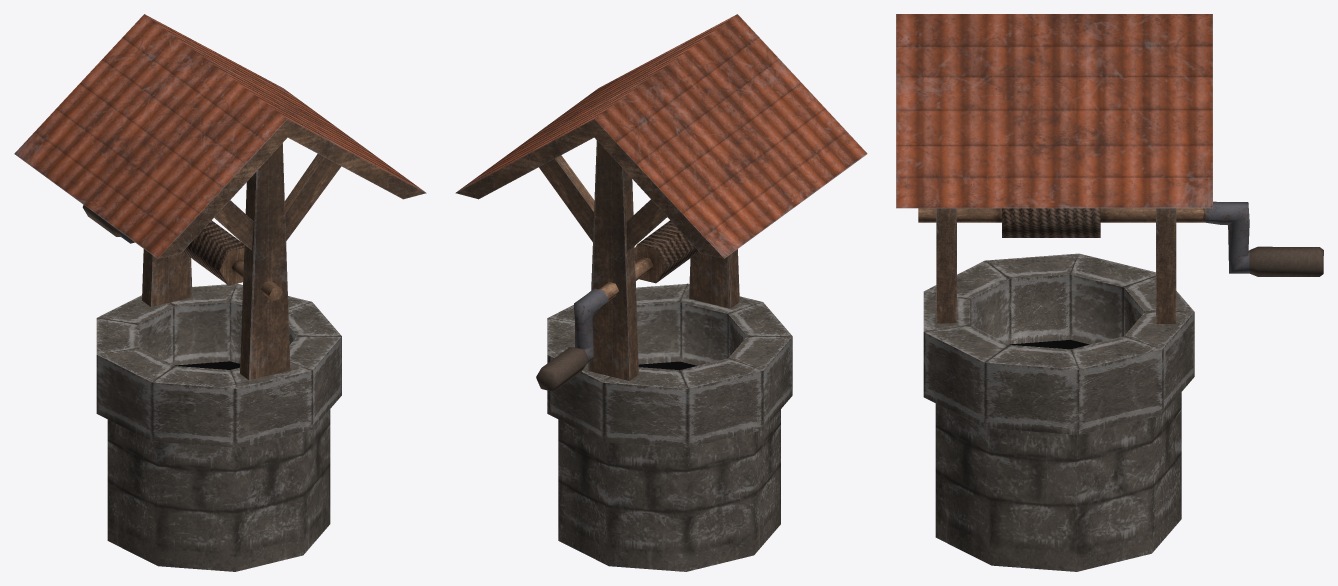
Rendered from well.gltf.
The picture shows the model from 3 angles, left to right: view 1: azimuth 30°, elevation 25°; view 2: azimuth 150°, elevation 25°; view 3: azimuth 270°, elevation 25°; orthographic projection. The views are drawn at different scales.
Parts seen in each view (by area): view 1: well_lo, roof_lo, Cube_3_lo, crank_lo, Cube_lo; view 2: well_lo, roof_lo, Cube_3_lo, crank_lo, Cube_lo; view 3: well_lo, roof_lo, crank_lo, Cube_3_lo.
Part boxes in pixels (bbox=[...]): well_lo: bbox=[96, 283, 341, 571]; roof_lo: bbox=[14, 14, 426, 258]; Cube_3_lo: bbox=[142, 143, 290, 380]; crank_lo: bbox=[82, 205, 282, 300]; Cube_lo: bbox=[214, 154, 341, 249]; well_lo: bbox=[547, 283, 792, 571]; roof_lo: bbox=[455, 14, 867, 258]; Cube_3_lo: bbox=[588, 140, 739, 380]; crank_lo: bbox=[536, 220, 698, 391]; Cube_lo: bbox=[539, 155, 666, 251]; well_lo: bbox=[923, 253, 1194, 571]; roof_lo: bbox=[896, 14, 1212, 208]; crank_lo: bbox=[918, 201, 1323, 276]; Cube_3_lo: bbox=[936, 208, 1176, 323].
Bounding box in the file's own units: 1.56 × 2.54 × 1.94.
Materials: 1 (1 with a texture image).
